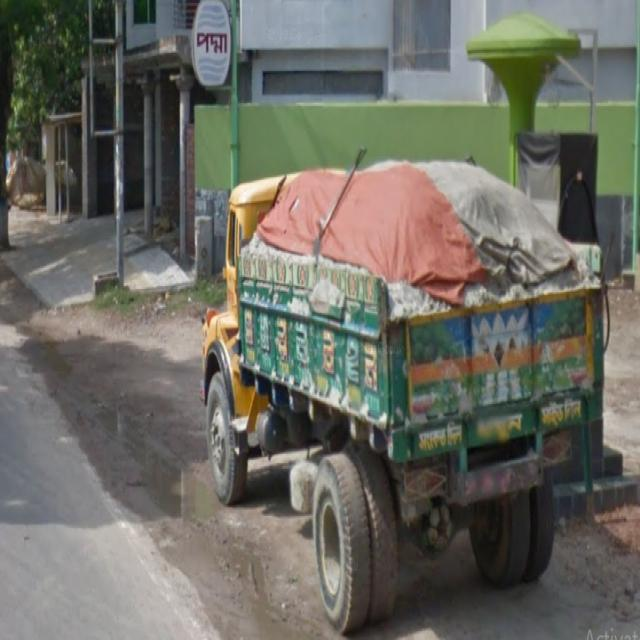truck: (199, 143, 604, 636)
